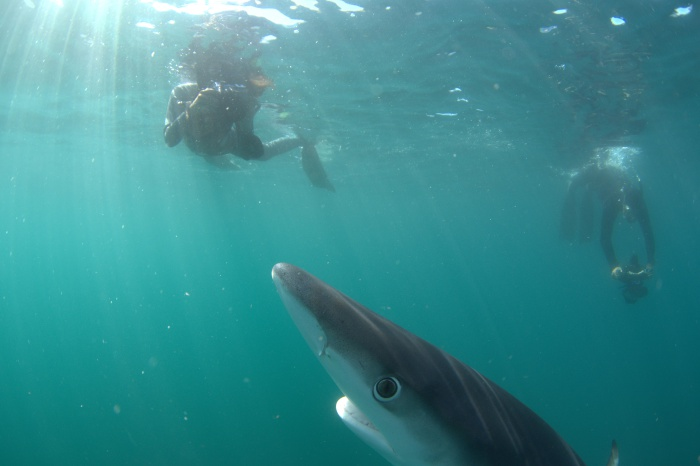Azul: (259, 256, 637, 466)
